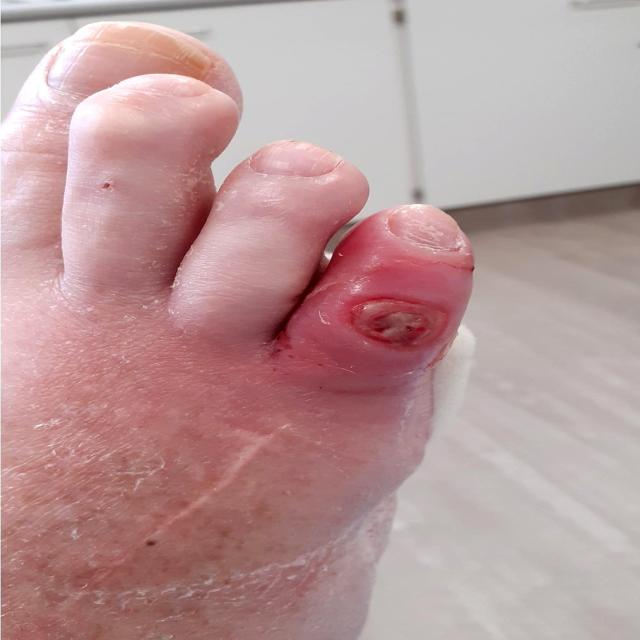wound: (348, 298, 447, 348)
